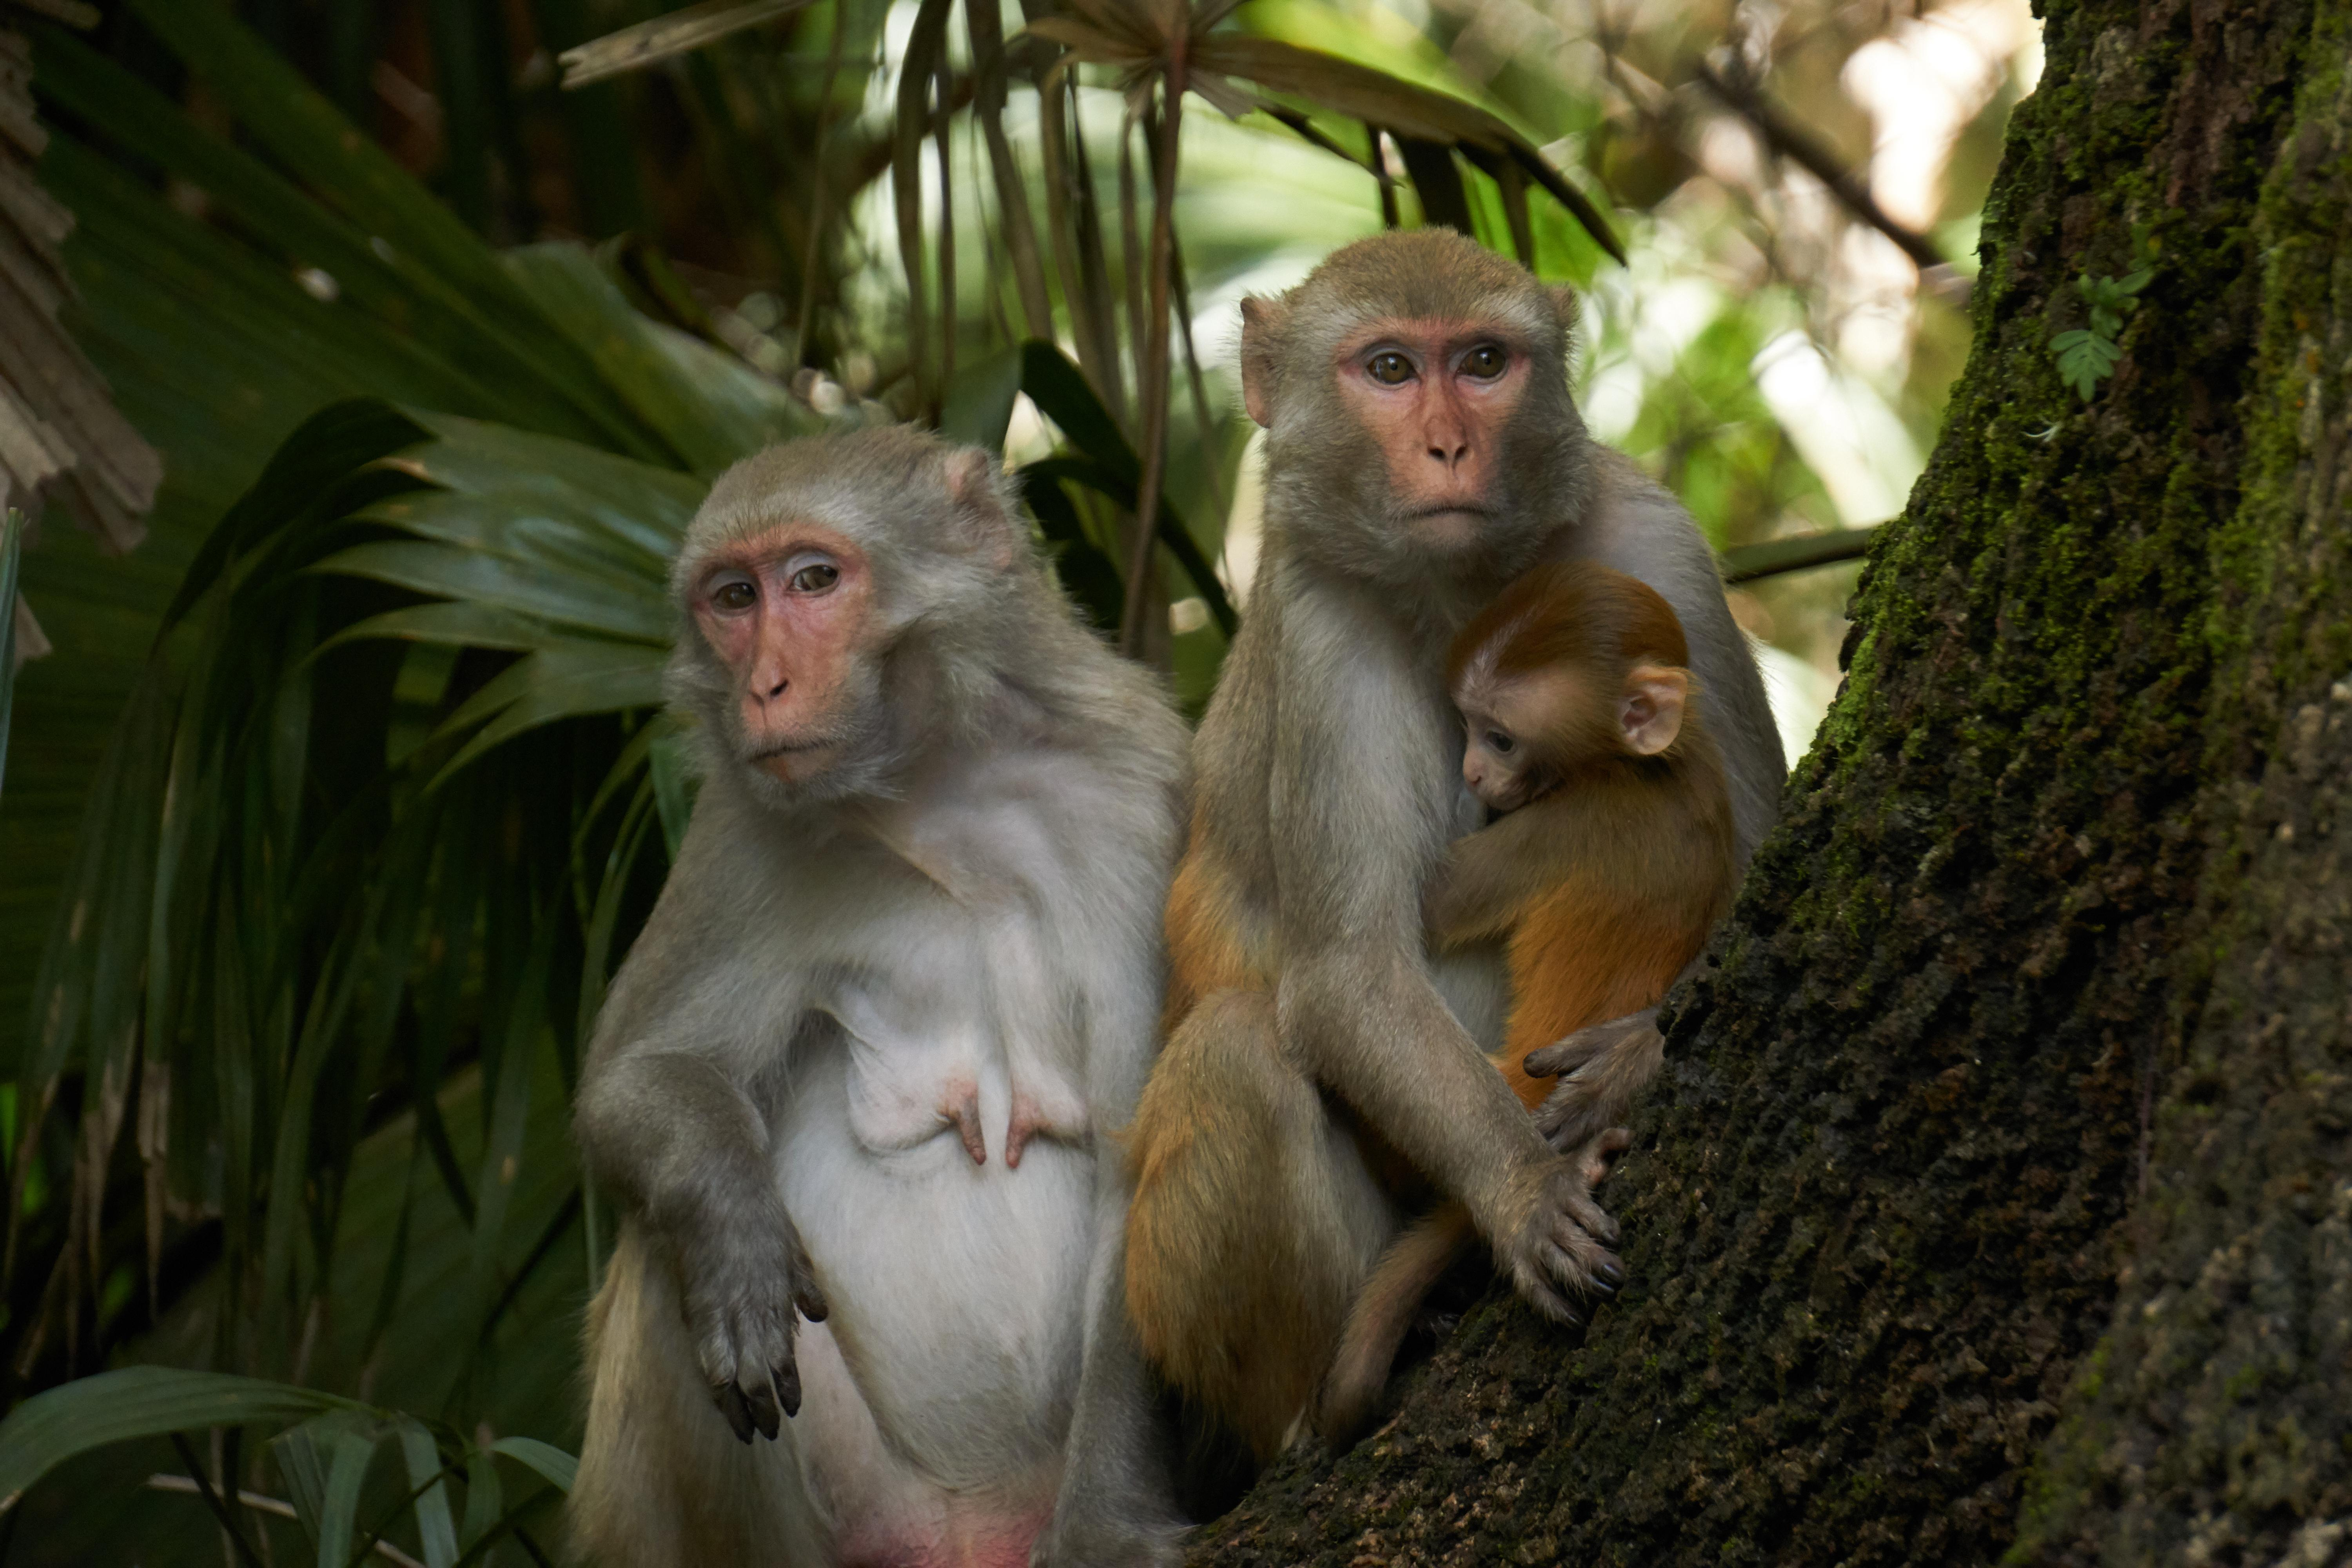monkey: (1108, 210, 1867, 1451), (539, 392, 1216, 1568), (1414, 553, 1806, 1134)
